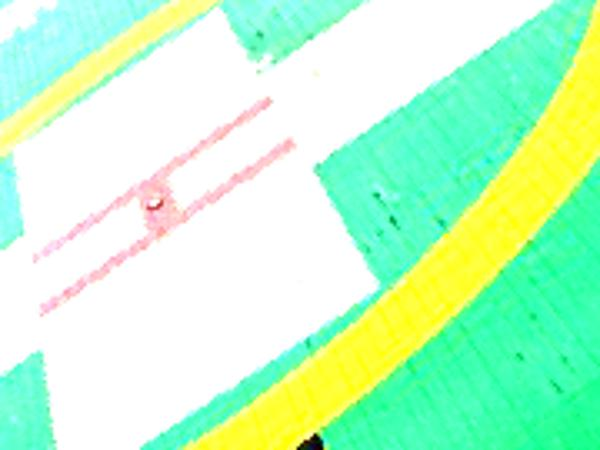Apron: (1, 1, 598, 445)
